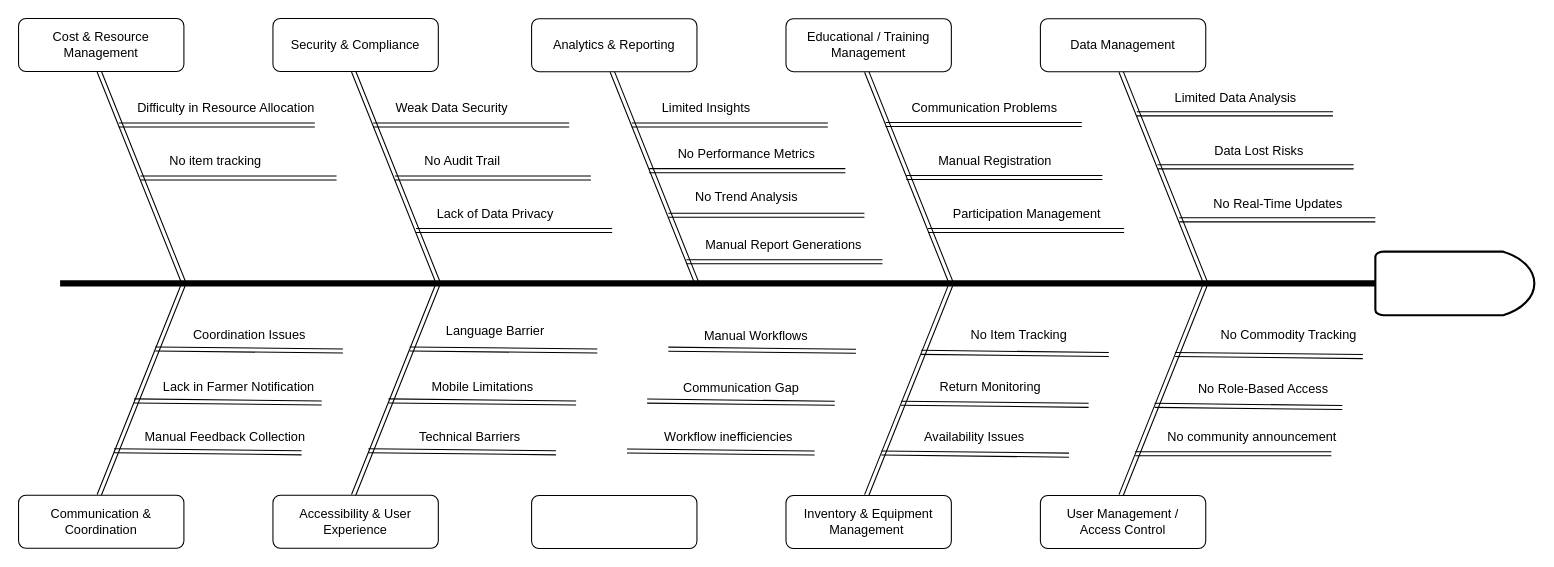
Image size: 1554x567. Some labels were removed from this diagram. Here are the shapes that lost their labels. From the top down, the centre of each, then its label:
At [1454,283]: "FITS Management Process".
At [614,521]: "System Integration & Automation".
